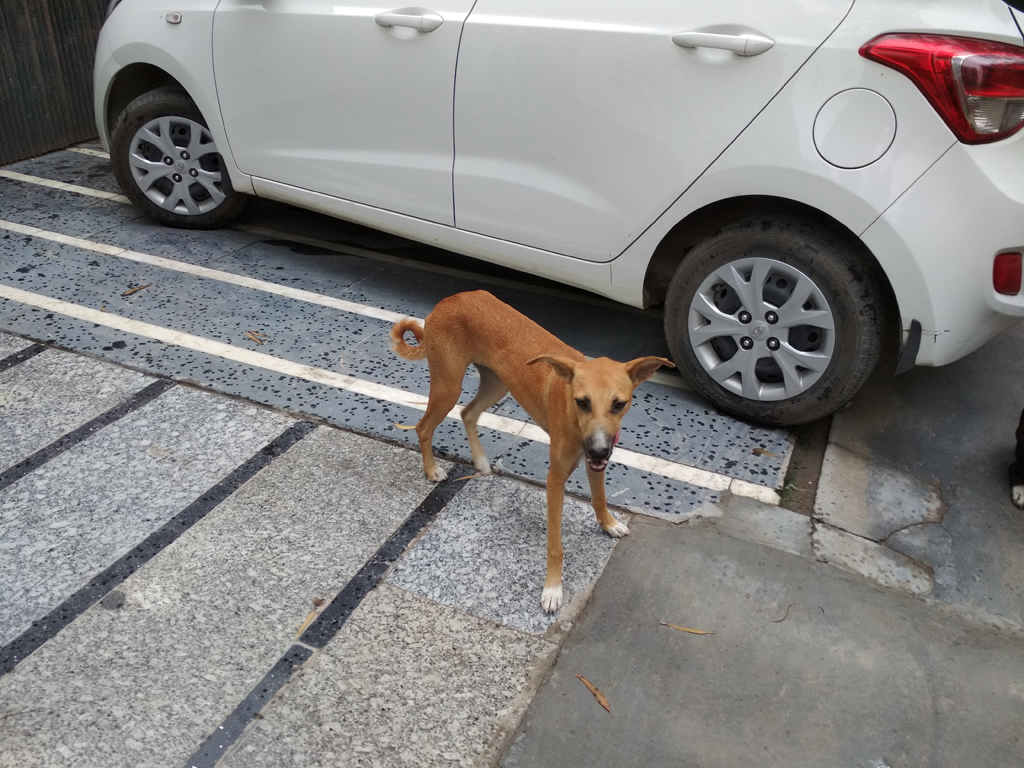dog: (388, 288, 676, 614)
